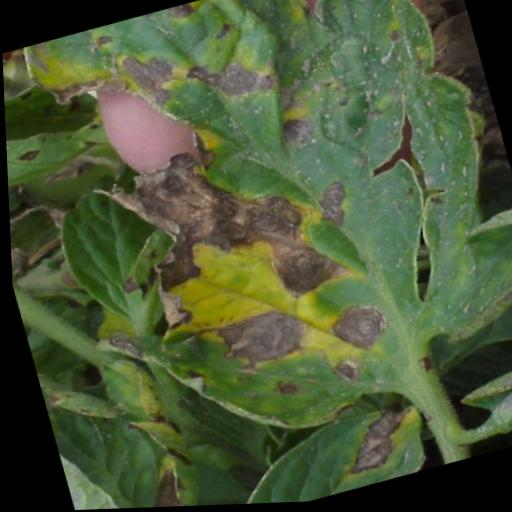Early Blight: (60, 0, 512, 465), (205, 386, 432, 506)
